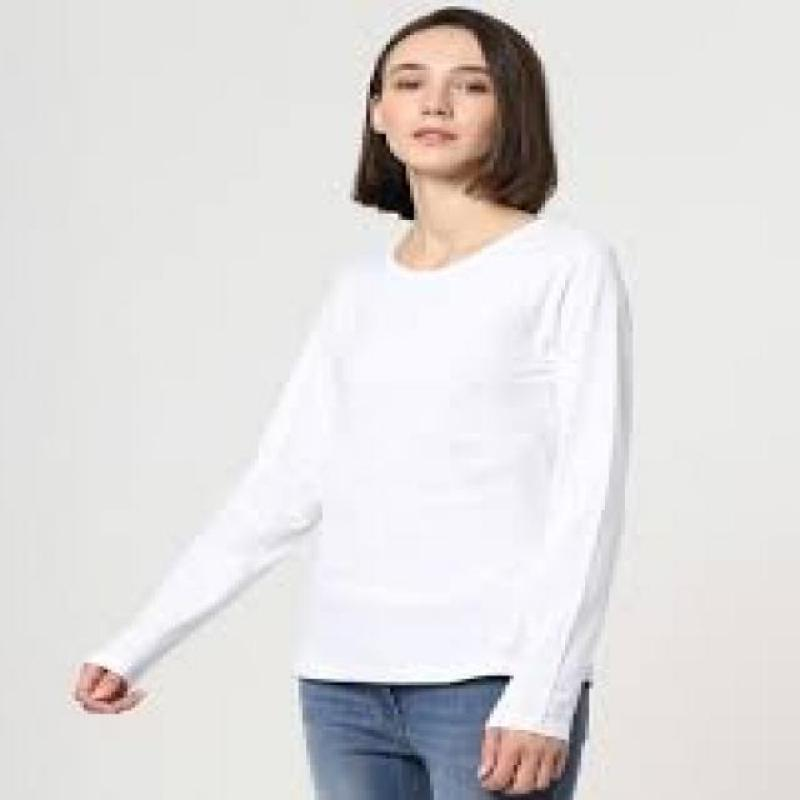long sleeve shirt: (83, 216, 641, 735)
trousers: (296, 671, 598, 800)
